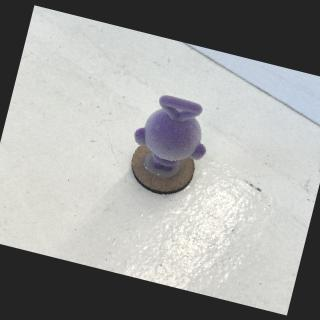teletubby: (134, 95, 205, 170)
